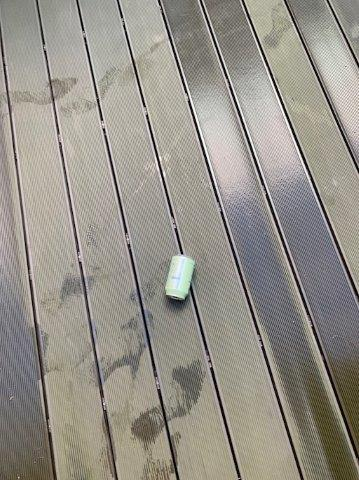kaleng: (165, 255, 195, 300)
